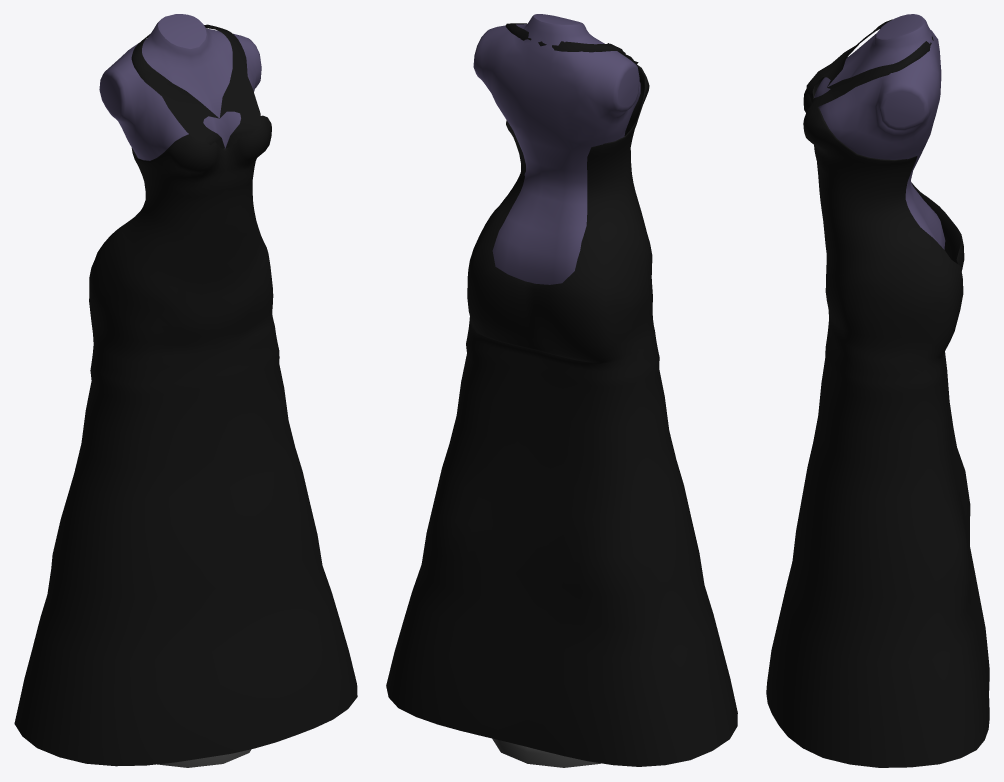
The model's file is Dress_13.fbx.
The picture shows the model from 3 angles, left to right: view 1: azimuth 30°, elevation 25°; view 2: azimuth 150°, elevation 25°; view 3: azimuth 270°, elevation 25°; orthographic projection. The views are drawn at different scales.
Parts seen in each view (by area): view 1: dress_12, dummy_1; view 2: dress_12, dummy_1; view 3: dress_12, dummy_1.
Boxes of the visible parts, <box> form: dress_12: <box>14,24,357,766</box>; dummy_1: <box>99,14,261,767</box>; dress_12: <box>386,23,737,766</box>; dummy_1: <box>473,14,640,767</box>; dress_12: <box>766,19,989,767</box>; dummy_1: <box>814,14,945,249</box>.
Bounding box in the file's own units: 0.7657 × 1.66 × 0.4786.
